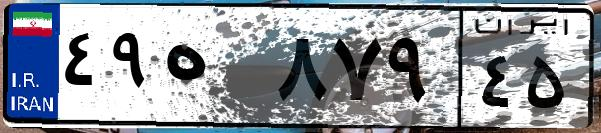4: (57, 26, 110, 100), (475, 38, 525, 113)
5: (525, 38, 570, 115)
7: (330, 28, 385, 110)
8: (270, 28, 330, 110)
9: (385, 28, 445, 110), (110, 28, 158, 98)
ه: (158, 20, 270, 120)
